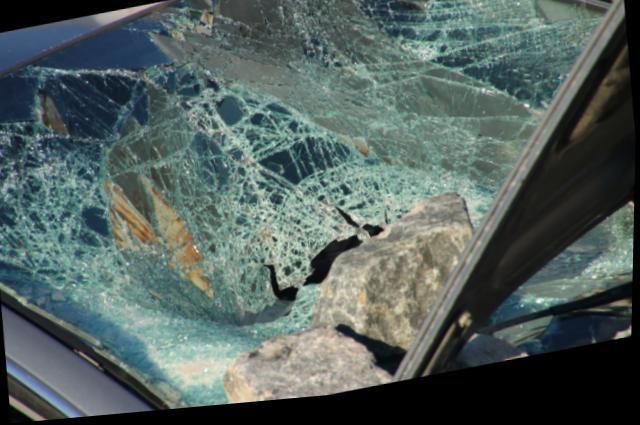glass shatter: (0, 0, 610, 413)
